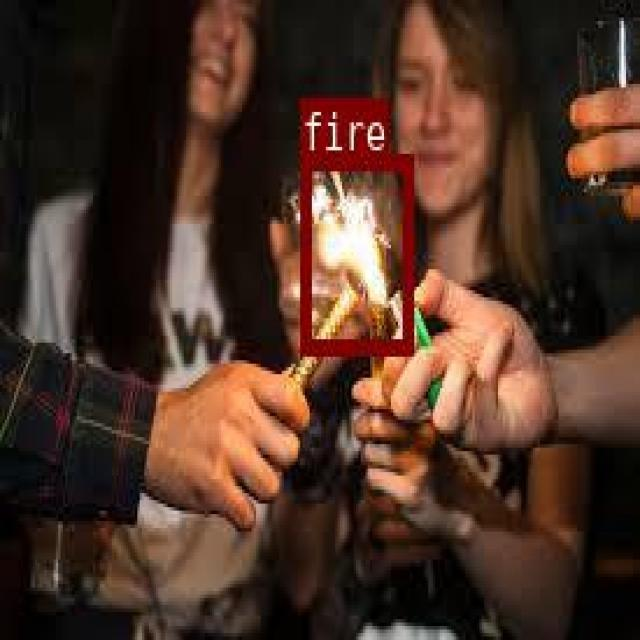fire: (299, 152, 411, 352)
